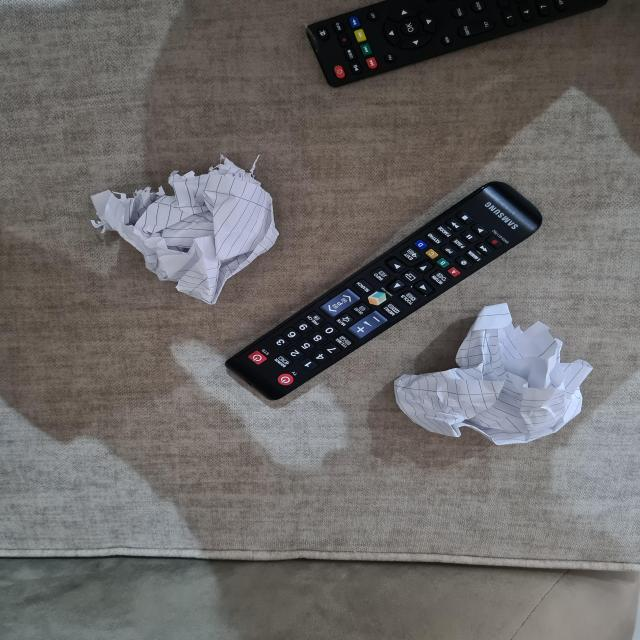kertas: (381, 313, 607, 447), (94, 160, 291, 304)
